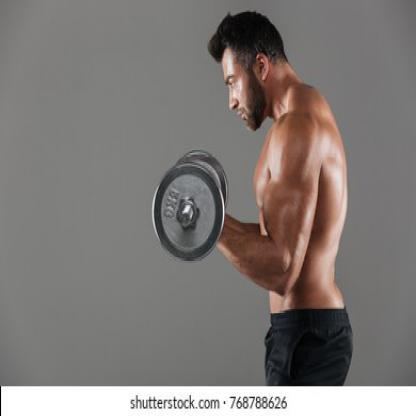Barbell: (147, 158, 229, 263)
